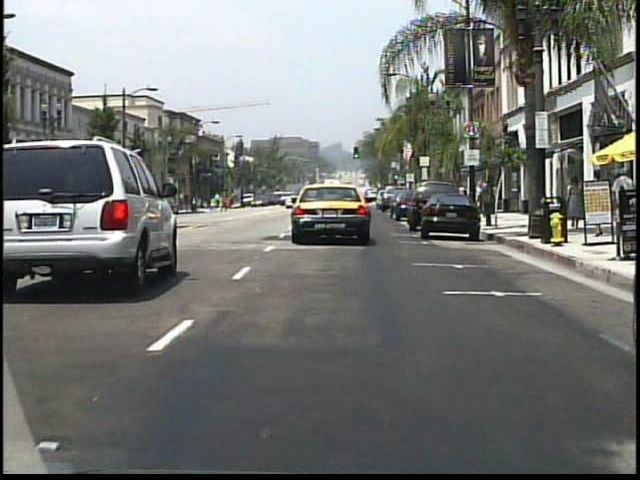person: (599, 165, 630, 221), (588, 169, 609, 237), (566, 177, 583, 235), (475, 181, 485, 215), (238, 194, 246, 209)
